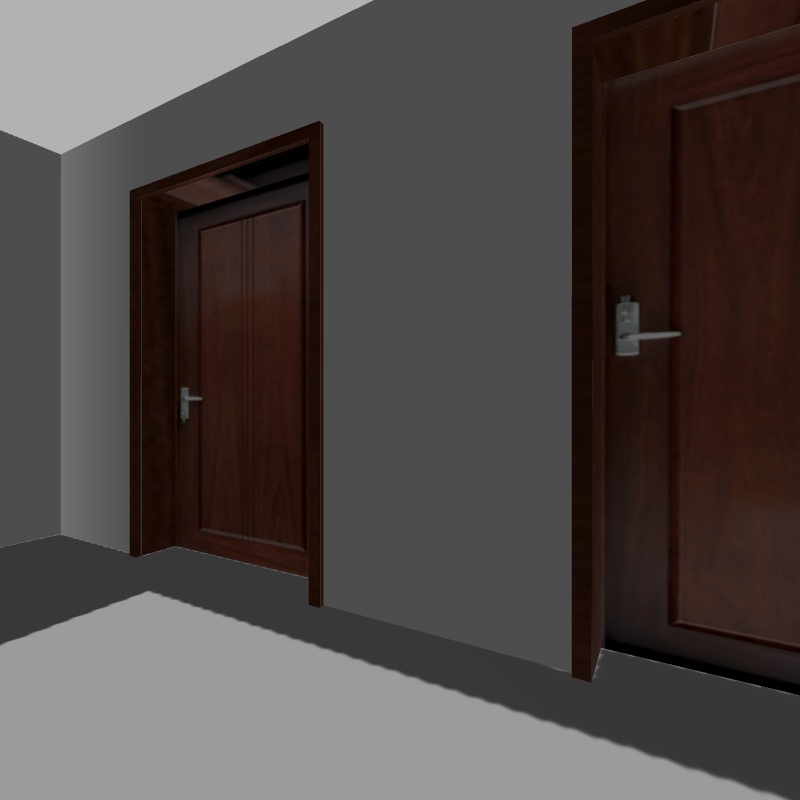handle: (167, 382, 208, 425)
